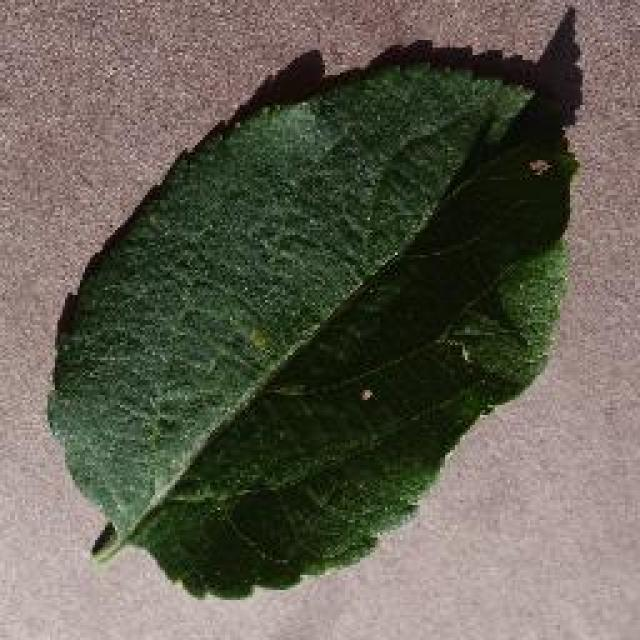apple healthy: (43, 5, 585, 600)
